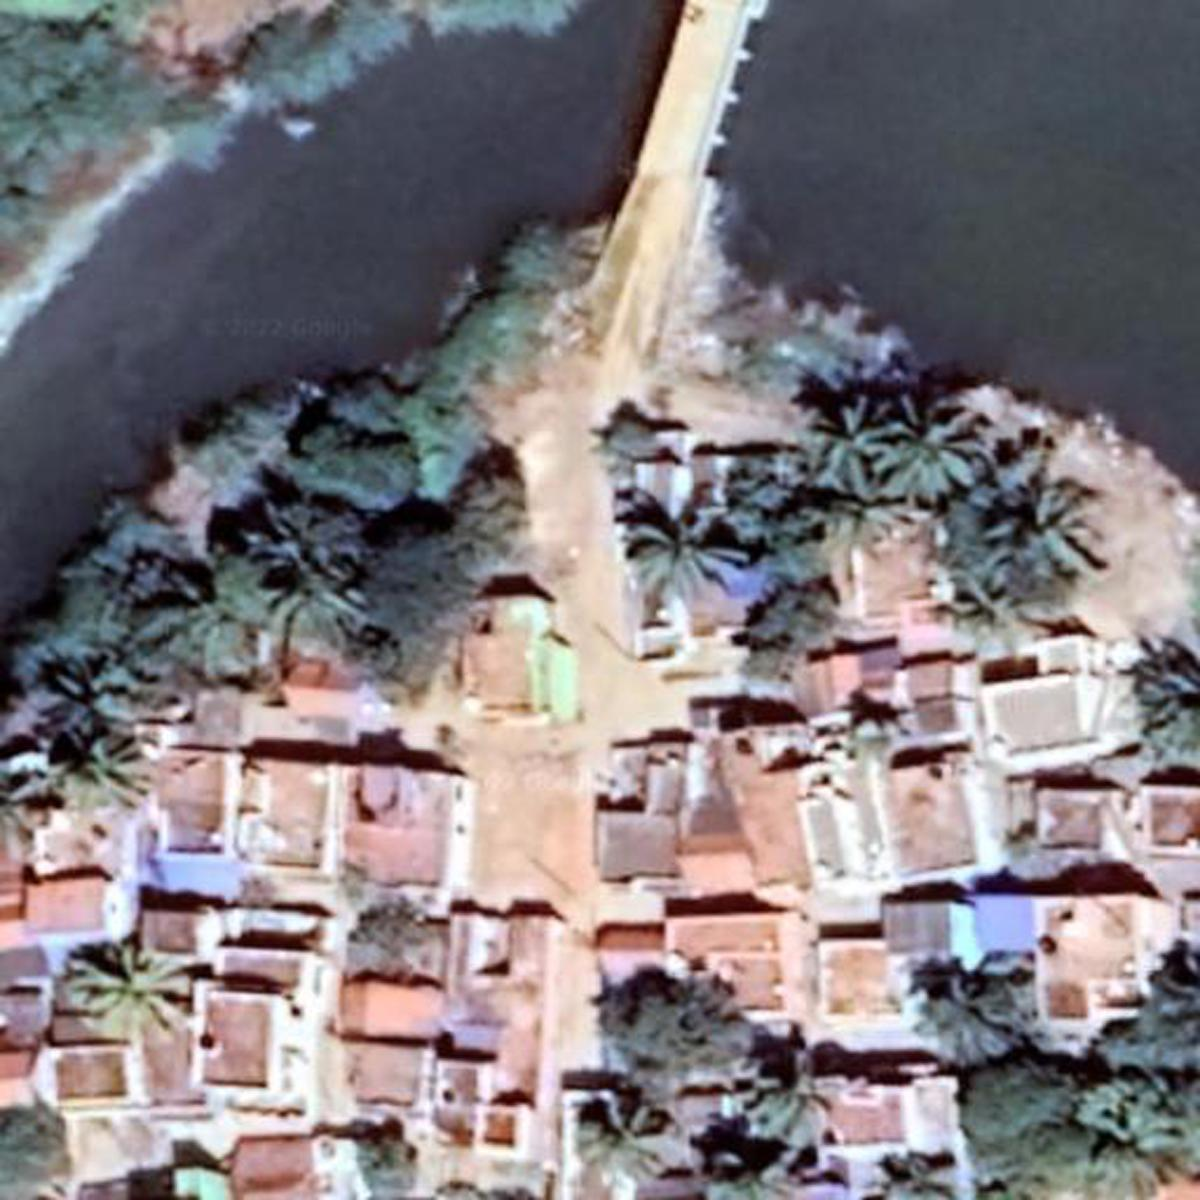coconut: (982, 487, 1115, 588), (611, 505, 747, 597), (65, 938, 196, 1033), (152, 567, 271, 660), (574, 1092, 682, 1188), (820, 389, 911, 496), (921, 973, 1038, 1052), (885, 403, 984, 492), (264, 515, 370, 597), (49, 733, 157, 808), (49, 658, 152, 727), (745, 1064, 836, 1138), (1143, 649, 1200, 749)
